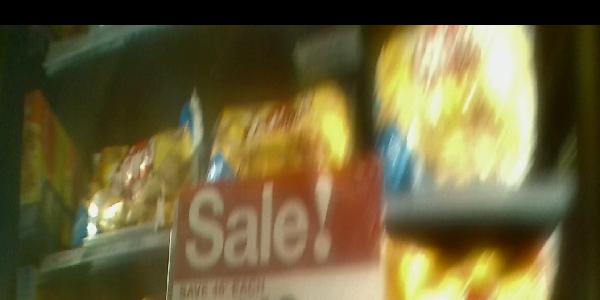icecream: (373, 12, 548, 201), (207, 93, 360, 213), (77, 101, 207, 232), (16, 89, 75, 253)
